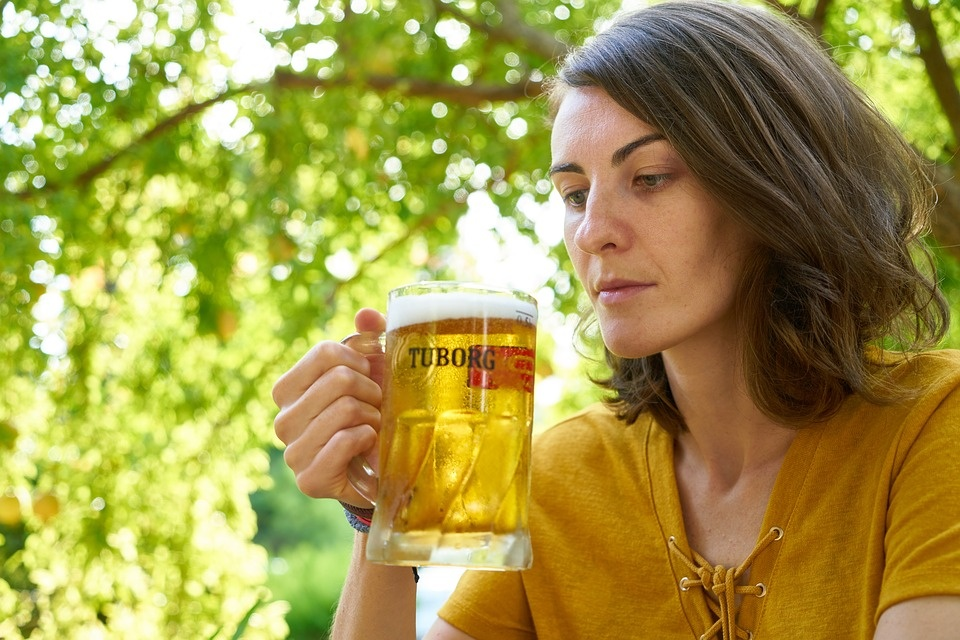glassBeer: (370, 287, 541, 571)
